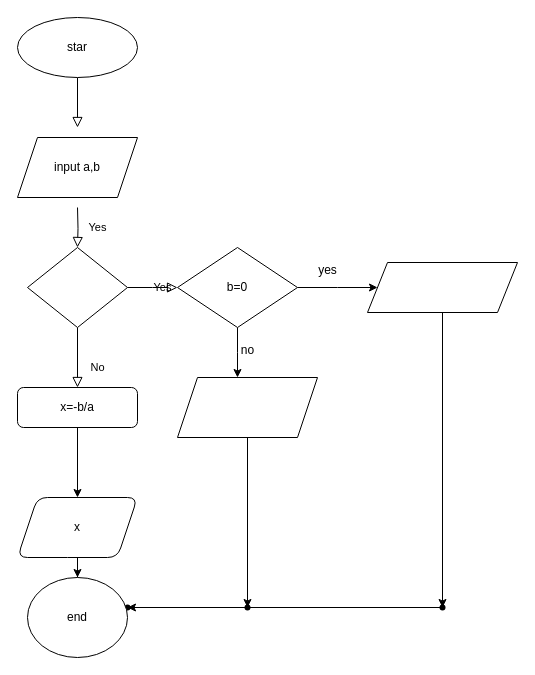
Image size: 535x675. Some labels were removed from this diagram. The box of each missing label's shape, as (x1, y1, x2, y2) in pixels:
a=0: (26, 246, 128, 328)
output co vo nghiem: (176, 376, 318, 438)
output vo so nghiem: (366, 262, 518, 312)
